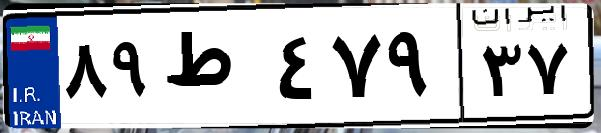3: (475, 38, 525, 113)
4: (270, 28, 330, 110)
7: (330, 28, 385, 110), (525, 38, 570, 115)
8: (57, 26, 110, 100)
9: (385, 28, 445, 110), (110, 28, 158, 98)
ط: (158, 20, 270, 120)
